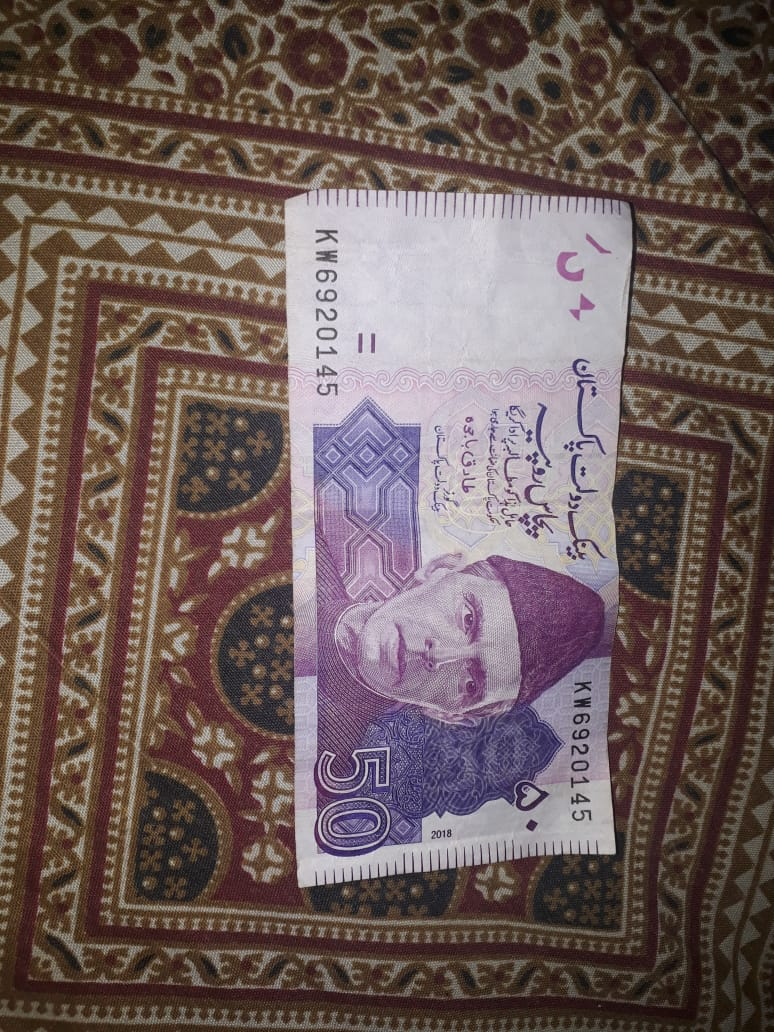50 rupee: (277, 189, 629, 900)
